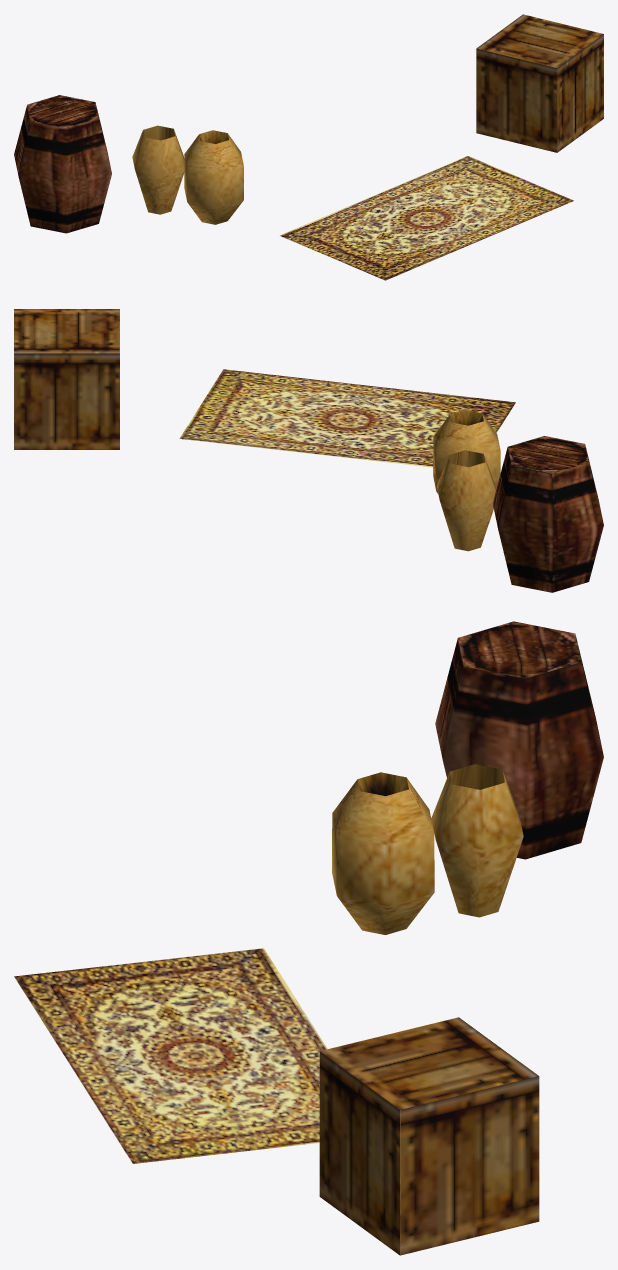
File: pers_house_b_2.dae
The picture shows the model from 3 angles, top to bottom: view 1: azimuth 30°, elevation 25°; view 2: azimuth 150°, elevation 25°; view 3: azimuth 270°, elevation 25°; orthographic projection. The views are drawn at different scales.
Visible parts, largest first — view 1: Object27-Pivot; view 2: Object27-Pivot; view 3: Object27-Pivot.
Part boxes in pixels (x1,y1,x2,y2): Object27-Pivot: (14, 14, 603, 280); Object27-Pivot: (14, 309, 603, 592); Object27-Pivot: (14, 621, 603, 1255).
Bounding box in the file's own units: 10.25 × 5.51 × 1.93.
